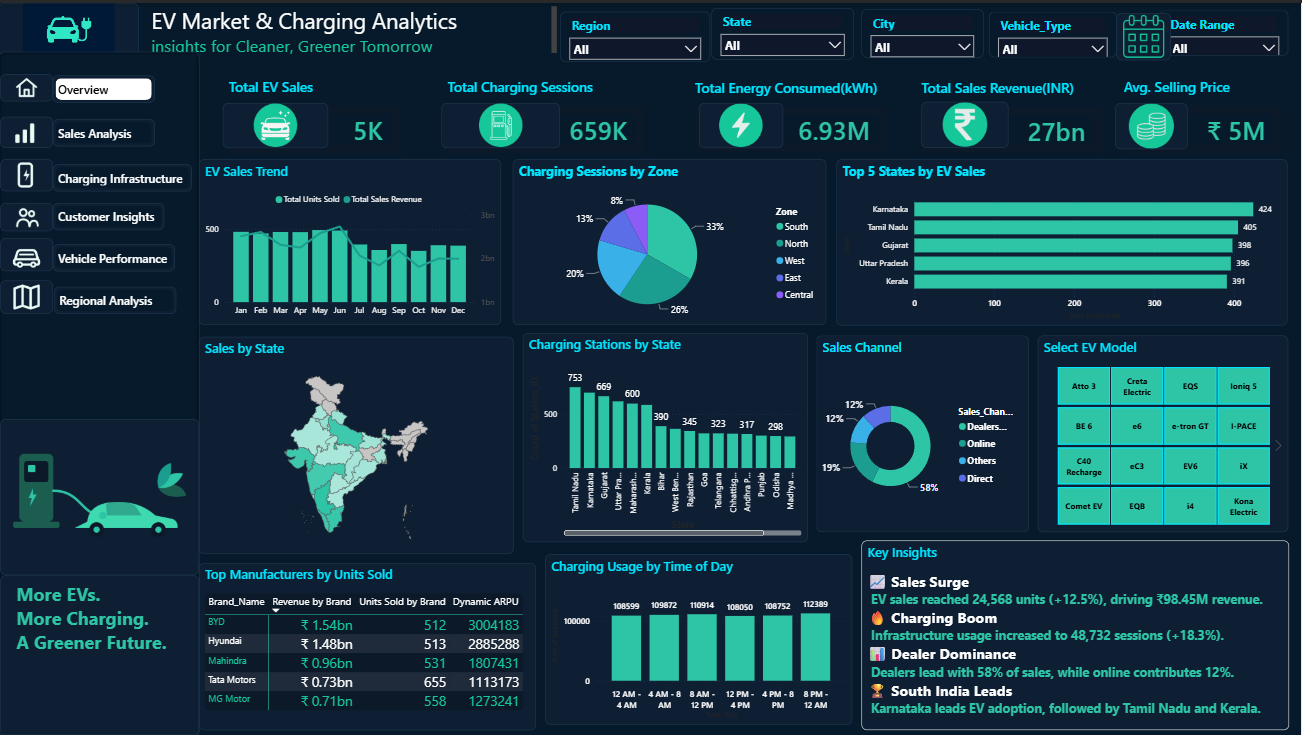

Layout of this report page (visuals, bound fields, positions):
{"tool":"powerbi","page":{"name":"Overview ","canvas":[1920,1080],"ordinal":0},"visuals":[{"type":"textbox","box":[219.4,0,607.6,81.5],"z":0},{"type":"image","box":[0,0,205.8,77.7],"z":1000},{"type":"slicer","fields":{"Values":["Region.State"]},"box":[1048.3,7.8,209.9,76],"z":2000},{"type":"slicer","fields":{"Values":["Vehicle_Master.Vehicle_Type"]},"box":[1458,13.6,188.3,67.1],"z":3000},{"type":"slicer","fields":{"Values":["Region.City"]},"box":[1269.6,9.7,179.6,71.4],"z":4000},{"type":"shape","box":[0,72.4,295,1008],"z":5000},{"type":"cardVisual","title":"Total EV Sales","fields":{"Data":["EV_Sales.Total EV Sales"]},"box":[329.4,105,269.6,124.9],"z":6000},{"type":"cardVisual","title":"Total Charging Sessions","fields":{"Data":["Charging_Usage.Total Charging Sessions"]},"box":[651.5,105,307.6,124.9],"z":7000},{"type":"cardVisual","title":"Total Energy Consumed(kWh)","fields":{"Data":["Charging_Usage.Total Energy Consumed"]},"box":[1015.3,106.8,300.9,122.3],"z":8000},{"type":"cardVisual","title":"Total Sales Revenue(INR)","fields":{"Data":["EV_Sales.Total Sales Revenue"]},"box":[1348.2,106.8,284.1,123.1],"z":9000},{"type":"cardVisual","title":"Avg. Selling Price","fields":{"Data":["EV_Sales.Average Selling Price"]},"box":[1646.8,105,251.5,124.9],"z":10000},{"type":"lineClusteredColumnComboChart","title":"EV Sales Trend","fields":{"Category":["DateTable.Month"],"Y":["EV_Sales.Total Units Sold"],"Y2":["EV_Sales.Total Sales Revenue"]},"box":[295,229.8,445.2,244.3],"z":11000},{"type":"pieChart","title":"Charging Sessions by Zone","fields":{"Category":["Region.Zone"],"Y":["Sum(Charging_Usage.Sessions)"]},"box":[756.4,229.8,461.5,244.3],"z":12000},{"type":"clusteredBarChart","title":"Top 5 States by EV Sales","fields":{"Category":["Region.State"],"Y":["EV_Sales.Total Units Sold"]},"box":[1233.6,229.4,664.4,244.5],"z":13000},{"type":"pivotTable","title":"Top Manufacturers by Units Sold","fields":{"Rows":["Manufacturer_Map.Brand_Name"],"Values":["EV_Sales.Revenue by Brand","EV_Sales.Units Sold by Brand","EV_Sales.Dynamic ARPU"]},"box":[294.3,824.5,495.8,246.1],"z":14000},{"type":"image","box":[1.8,105,77.8,39.8],"z":15000},{"type":"image","box":[1.8,168.3,77.8,45.2],"z":16000},{"type":"image","box":[1.8,229.8,77.8,47.1],"z":17000},{"type":"image","box":[1.8,295,77.8,41.6],"z":18000},{"type":"image","box":[1.8,345.6,77.8,48.9],"z":19000},{"type":"image","box":[1.8,409,77.8,48.9],"z":20000},{"type":"image","box":[1.8,613.5,293.2,229.8],"z":21000},{"type":"textbox","box":[1.8,843.3,293.2,235.3],"z":22000},{"type":"textbox","title":"Key Insights","box":[1270.4,792.1,629.8,279.2],"z":23000},{"type":"shapeMap","title":"Sales by State","fields":{"Category":["Region.State"],"Value":["Region.Region Sales %"]},"box":[294.3,491.3,463.1,320.3],"z":24000},{"type":"donutChart","title":"Sales Channel","fields":{"Category":["EV_Sales.Sales_Channel"],"Y":["Sum(EV_Sales.Units_Sold)"]},"box":[1203.4,490.4,313.1,289.5],"z":25000},{"type":"slicer","fields":{"Values":["DateTable.Date"]},"box":[1708.4,11.6,190.3,66],"z":26000},{"type":"actionButton","box":[79.6,106.8,150,40],"z":27000},{"type":"actionButton","box":[79.6,171.9,150,40],"z":28000},{"type":"actionButton","box":[79.6,237.1,205.1,39.8],"z":29000},{"type":"actionButton","box":[79.6,295,164.1,39.8],"z":30000},{"type":"actionButton","box":[79.6,354.7,179.8,39.8],"z":31000},{"type":"actionButton","box":[81.4,418,179.8,39.8],"z":32000},{"type":"image","box":[330,147.5,155.3,66],"z":33000},{"type":"image","box":[1030.9,147.5,124.2,66],"z":34000},{"type":"image","box":[652.3,147.5,174.7,66],"z":35000},{"type":"image","box":[1358.9,145.6,128.1,67.9],"z":36000},{"type":"image","box":[1643.6,147.2,106.7,68.1],"z":37000},{"type":"image","box":[1644.7,15.1,80.1,69.3],"z":38000},{"type":"slicer","title":"Select EV Model","fields":{"Values":["Vehicle_Master.Model_Name"]},"box":[1529.2,490.4,369.2,289.5],"z":39000},{"type":"slicer","fields":{"Values":["Region.Region_ID"]},"box":[826.7,13,220.7,73.6],"z":40000},{"type":"clusteredColumnChart","title":"Charging Stations by State","fields":{"Category":["Region.State"],"Y":["CountNonNull(Charging_Usage.Station_ID)"]},"box":[770.9,485,419.8,307.6],"z":41000},{"type":"clusteredColumnChart","title":"Charging Usage by Time of Day","fields":{"Category":["Charging_Usage.Time_Slot"],"Y":["Sum(Charging_Usage.Sessions)"]},"box":[805.1,811.6,452.3,251],"z":42000}]}

Visuals, with their boxes on the page's 1920x1080 design canvas (x1, y1, x2, y2). These are canvas units, not pixel positions in the 1302x735 screenshot, which may show the page scaled, cropped or inside an application window:
textbox: box=[219, 0, 827, 82]
image: box=[0, 0, 206, 78]
slicer - Region.State: box=[1048, 8, 1258, 84]
slicer - Vehicle_Master.Vehicle_Type: box=[1458, 14, 1646, 81]
slicer - Region.City: box=[1270, 10, 1449, 81]
shape: box=[0, 72, 295, 1080]
"Total EV Sales" cardVisual: box=[329, 105, 599, 230]
"Total Charging Sessions" cardVisual: box=[652, 105, 959, 230]
"Total Energy Consumed(kWh)" cardVisual: box=[1015, 107, 1316, 229]
"Total Sales Revenue(INR)" cardVisual: box=[1348, 107, 1632, 230]
"Avg. Selling Price" cardVisual: box=[1647, 105, 1898, 230]
"EV Sales Trend" lineClusteredColumnComboChart: box=[295, 230, 740, 474]
"Charging Sessions by Zone" pieChart: box=[756, 230, 1218, 474]
"Top 5 States by EV Sales" clusteredBarChart: box=[1234, 229, 1898, 474]
"Top Manufacturers by Units Sold" pivotTable: box=[294, 824, 790, 1071]
image: box=[2, 105, 80, 145]
image: box=[2, 168, 80, 214]
image: box=[2, 230, 80, 277]
image: box=[2, 295, 80, 337]
image: box=[2, 346, 80, 394]
image: box=[2, 409, 80, 458]
image: box=[2, 614, 295, 843]
textbox: box=[2, 843, 295, 1079]
"Key Insights" textbox: box=[1270, 792, 1900, 1071]
"Sales by State" shapeMap: box=[294, 491, 757, 812]
"Sales Channel" donutChart: box=[1203, 490, 1516, 780]
slicer - DateTable.Date: box=[1708, 12, 1899, 78]
actionButton: box=[80, 107, 230, 147]
actionButton: box=[80, 172, 230, 212]
actionButton: box=[80, 237, 285, 277]
actionButton: box=[80, 295, 244, 335]
actionButton: box=[80, 355, 259, 394]
actionButton: box=[81, 418, 261, 458]
image: box=[330, 148, 485, 214]
image: box=[1031, 148, 1155, 214]
image: box=[652, 148, 827, 214]
image: box=[1359, 146, 1487, 214]
image: box=[1644, 147, 1750, 215]
image: box=[1645, 15, 1725, 84]
"Select EV Model" slicer: box=[1529, 490, 1898, 780]
slicer - Region.Region_ID: box=[827, 13, 1047, 87]
"Charging Stations by State" clusteredColumnChart: box=[771, 485, 1191, 793]
"Charging Usage by Time of Day" clusteredColumnChart: box=[805, 812, 1257, 1063]
